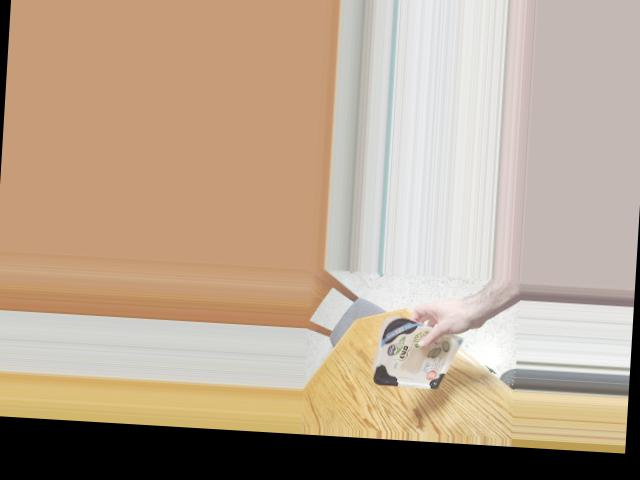cheese: (370, 326, 457, 383)
